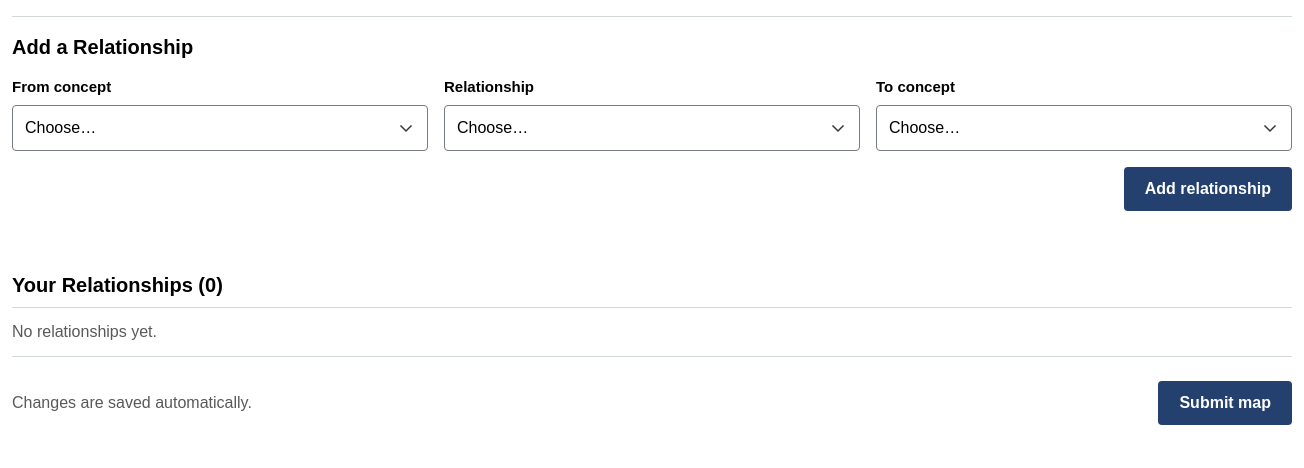
it: ConceptMapEditor (keyboard path) › shows a save error without losing the map
Select "Alpha" in the dropdown labelled "From concept" at (220, 128), box [12, 105, 428, 151]
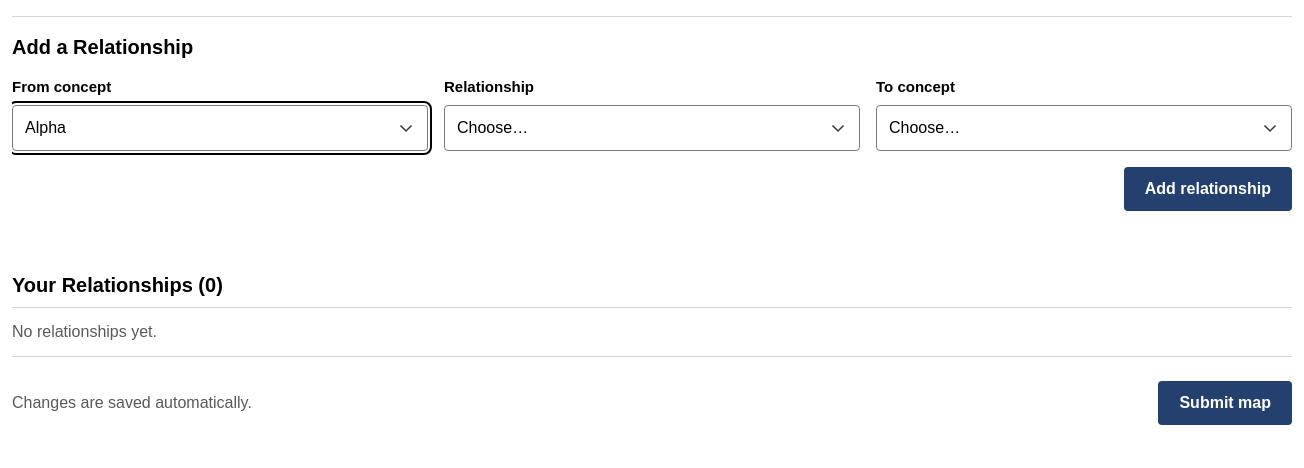
Select "uses" in the dropdown labelled "Relationship" at (652, 128), box [444, 105, 860, 151]
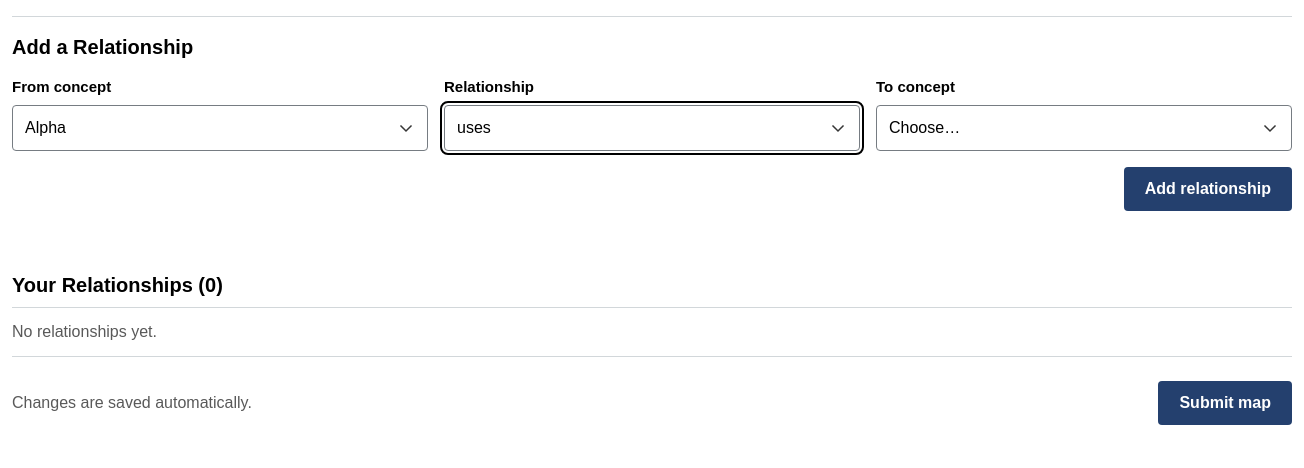
Select "Gamma" in the dropdown labelled "To concept" at (1084, 128), box [876, 105, 1292, 151]
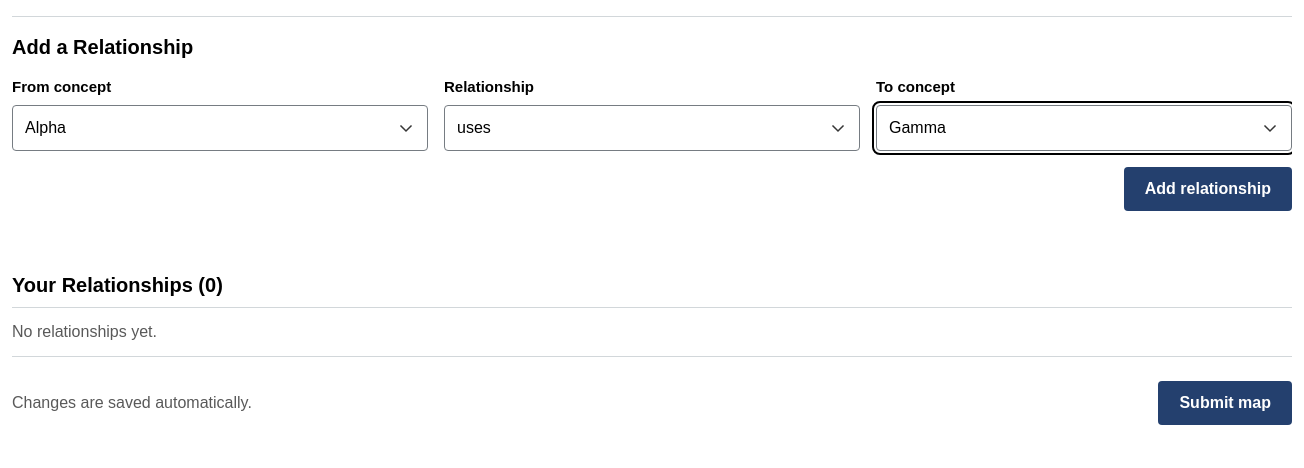
Click the button "Add relationship".
click(1208, 189)  # box [1124, 167, 1292, 211]
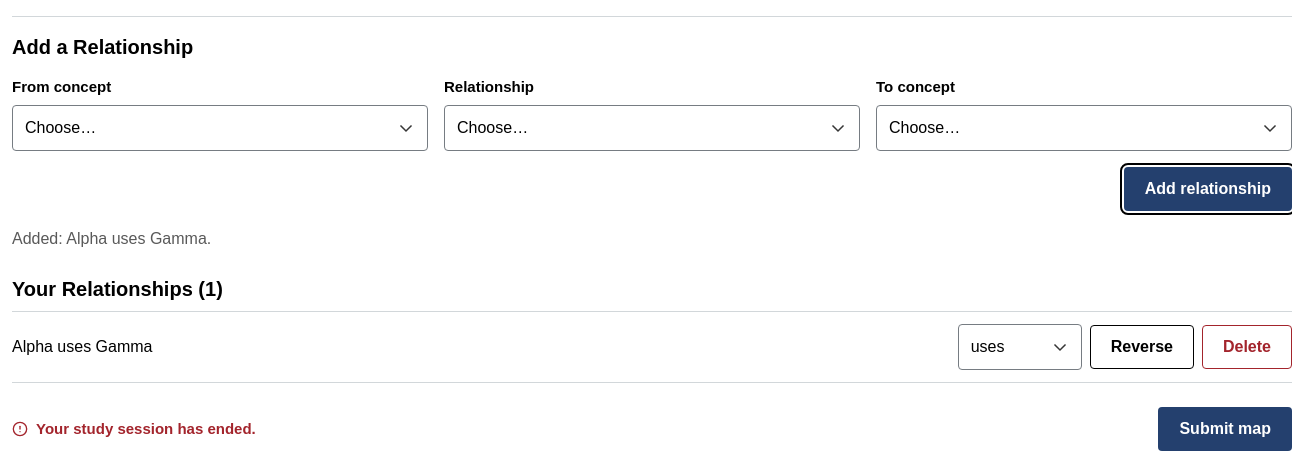
Expected: the text "Your study session has ended." is shown, [12, 419, 256, 439]
Expected: the text "Alpha uses Gamma" is shown, [12, 335, 152, 359]
